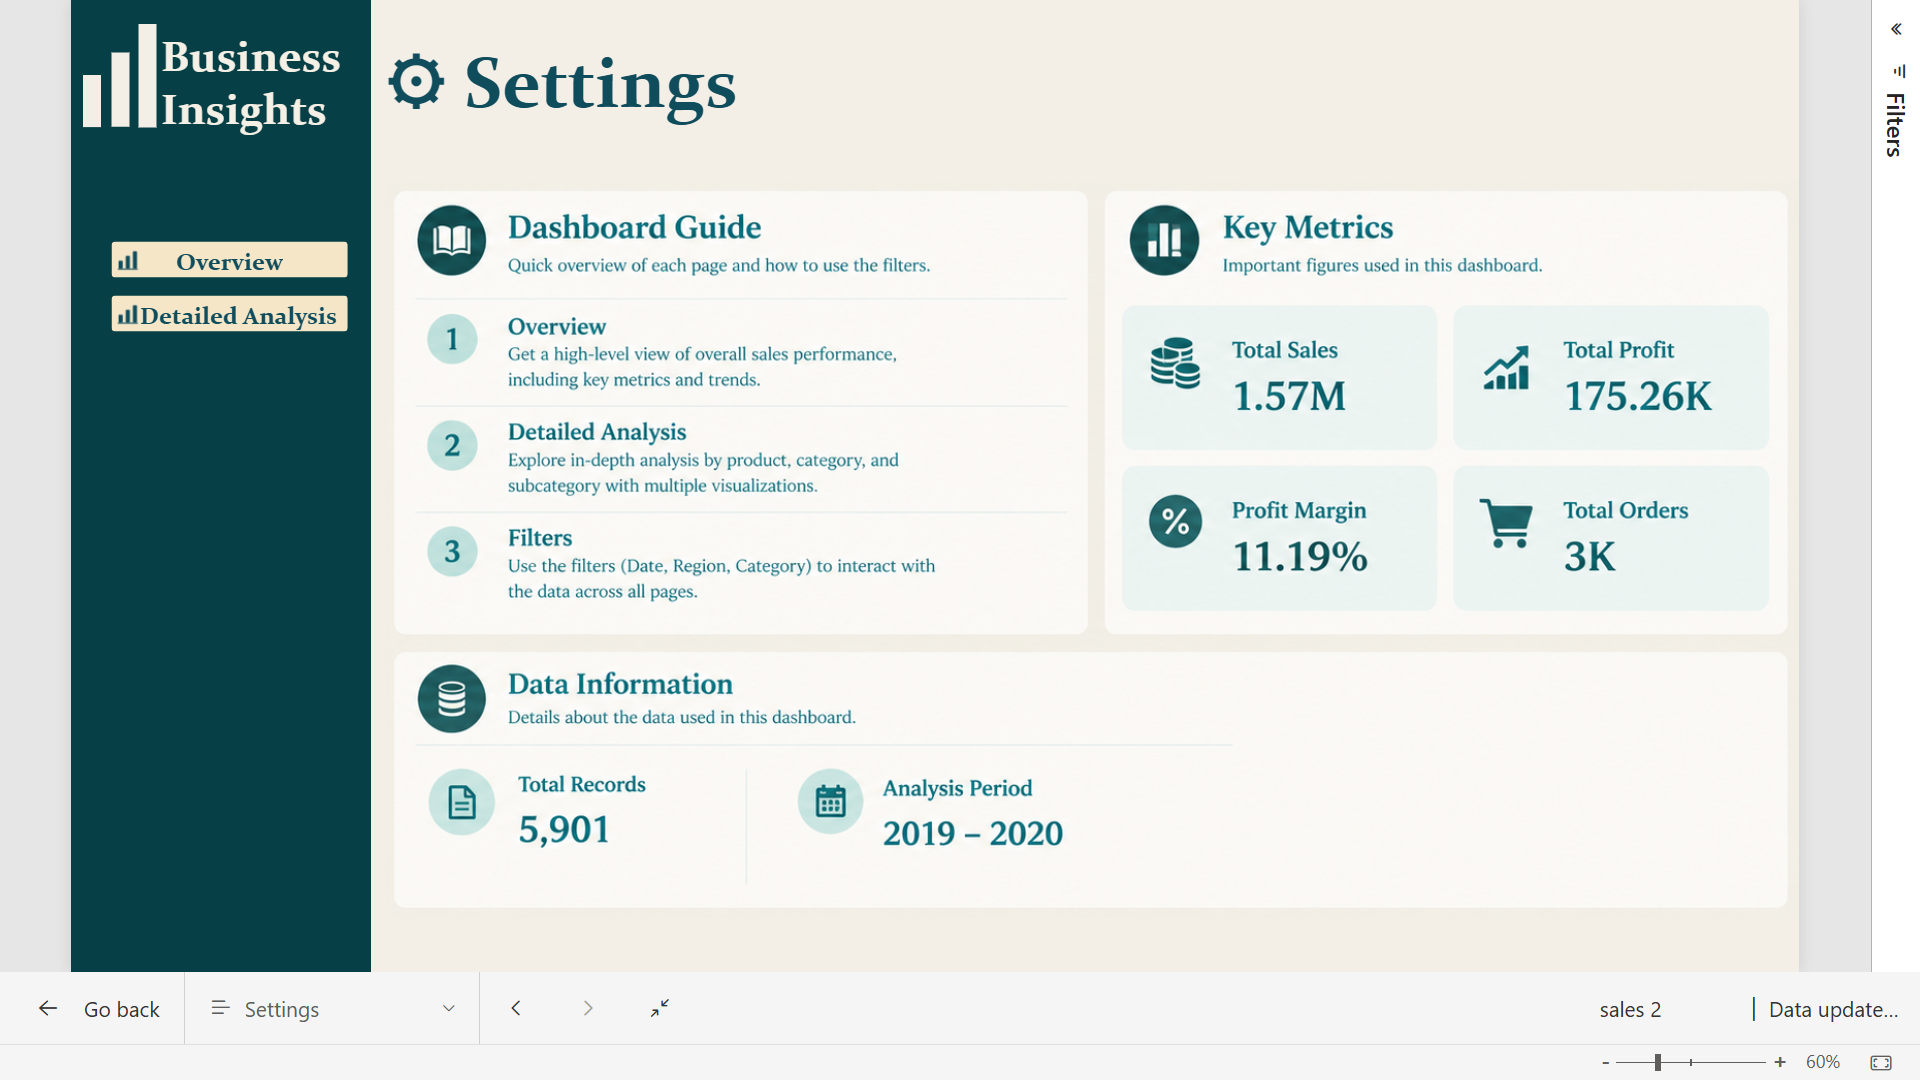

The dashboard page shown, as its layout file describes it:
{"tool":"powerbi","page":{"name":"Settings","canvas":[1920,1080],"ordinal":2},"visuals":[{"type":"shape","box":[0,0,333.3,1080],"z":0},{"type":"actionButton","box":[45,267.5,262.5,40],"z":1},{"type":"shape","box":[13.7,83.2,20,57.9],"z":2},{"type":"shape","box":[45,57.5,20,82.5],"z":3},{"type":"shape","box":[74.4,25.9,20,115],"z":4},{"type":"textbox","box":[99.5,33,233,117],"z":5},{"type":"actionButton","box":[45,327.5,262.5,40],"z":6},{"type":"textbox","box":[350,32.5,485,107.5],"z":8},{"type":"image","box":[350,140,1570,940],"z":9}]}

Visuals, with their boxes on the page's 1920x1080 design canvas (x1, y1, x2, y2). These are canvas units, not pixel positions in the 1920x1080 screenshot, which may show the page scaled, cropped or inside an application window:
shape: 0/0/333/1080
actionButton: 45/268/308/308
shape: 14/83/34/141
shape: 45/58/65/140
shape: 74/26/94/141
textbox: 100/33/332/150
actionButton: 45/328/308/368
textbox: 350/32/835/140
image: 350/140/1920/1080
